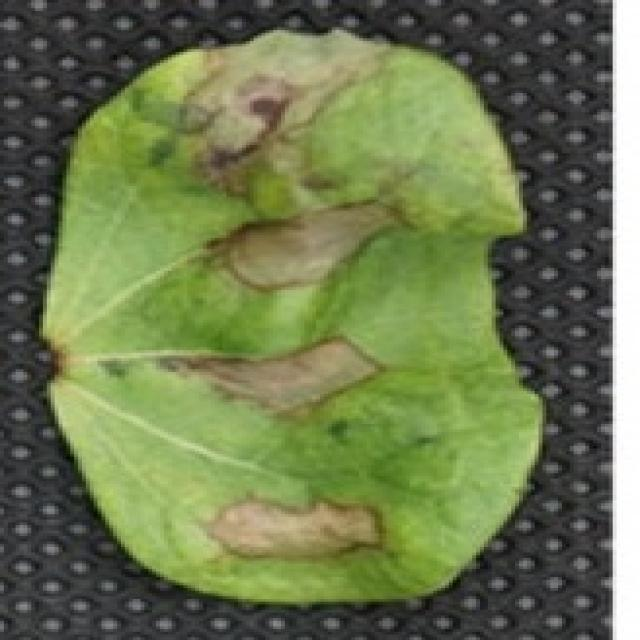Fusarium Wilt: (180, 68, 391, 578)
